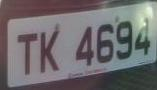4: (73, 24, 96, 73), (132, 12, 155, 60)
6: (95, 21, 117, 67)
9: (113, 16, 135, 62)
K: (37, 26, 64, 80)
T: (14, 28, 40, 82)
